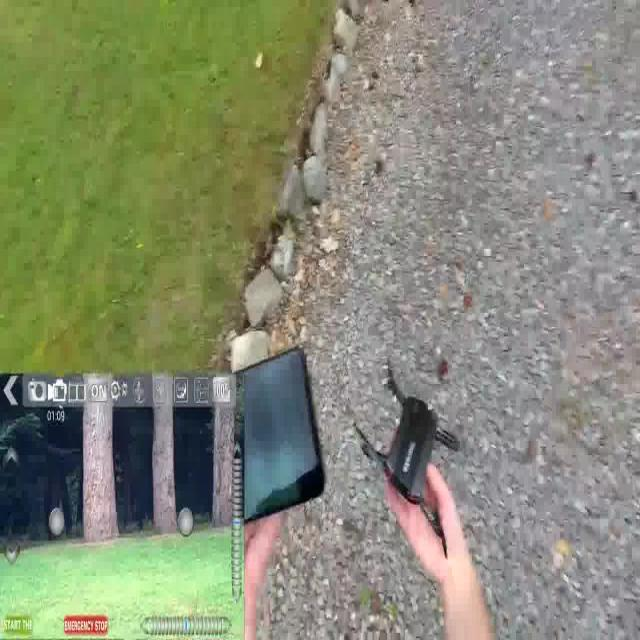drones: (347, 342, 470, 574)
